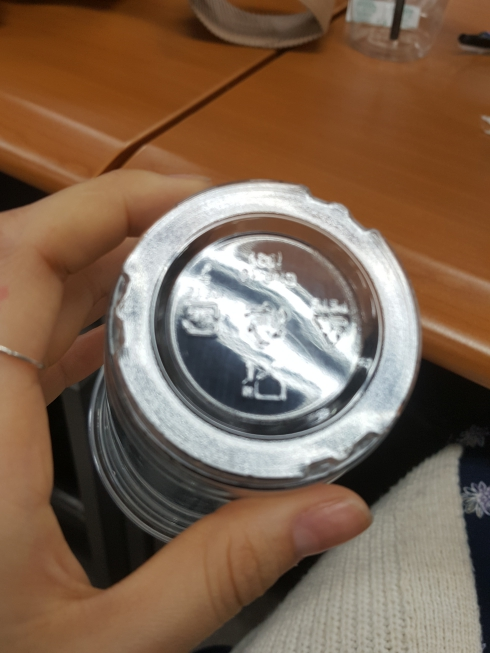recycle: (306, 294, 359, 351)
